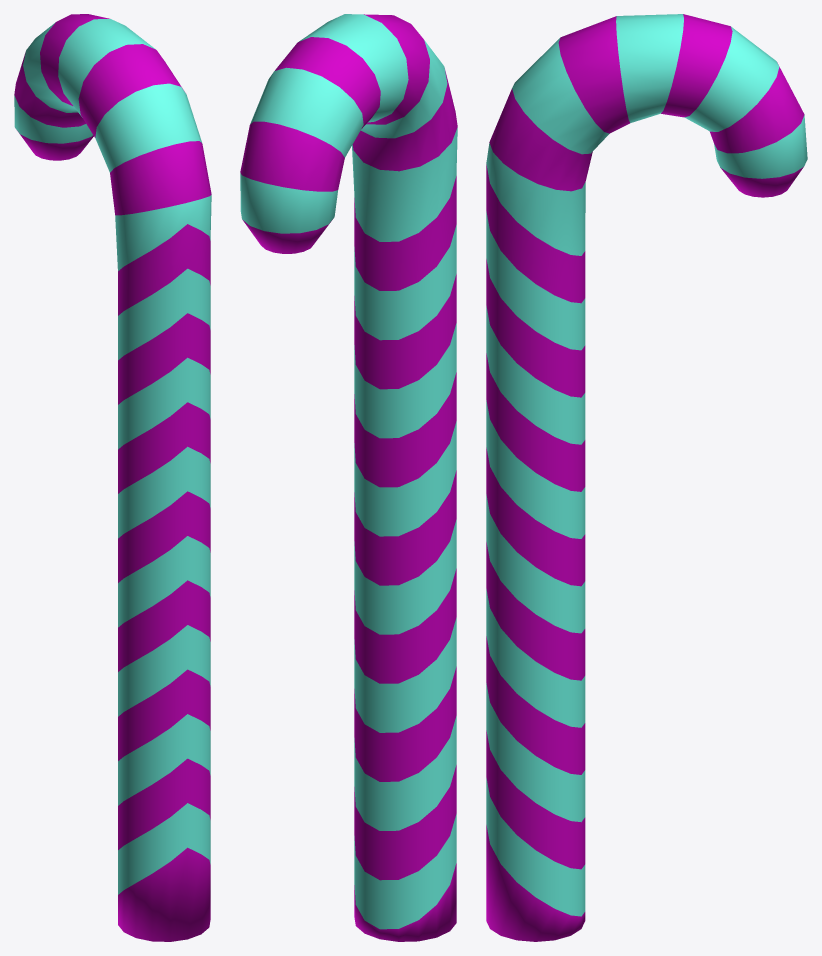
File: candy_cane_pc4.fbx
3 views of the same model, side by side, from view 1: azimuth 30°, elevation 25°; view 2: azimuth 150°, elevation 25°; view 3: azimuth 270°, elevation 25° (orthographic). The views are drawn at different scales.
Parts seen in each view (by area): view 1: Cylinder; view 2: Cylinder; view 3: Cylinder.
Part boxes in pixels (x1=…): Cylinder: x1=14, y1=14, x2=211, y2=941; Cylinder: x1=240, y1=14, x2=457, y2=941; Cylinder: x1=486, y1=14, x2=807, y2=941.
Size of the model in its own units: 208 by 1913 by 617.
